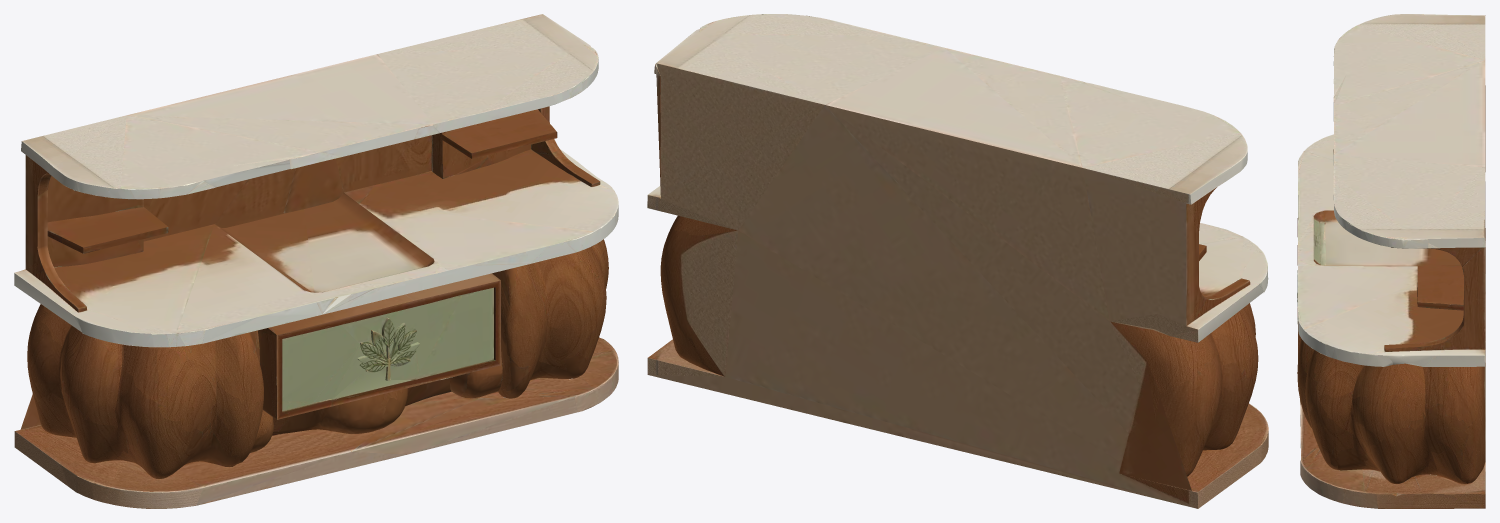
Rendered from hall-counter.glb.
The picture shows the model from 3 angles, left to right: view 1: azimuth 30°, elevation 25°; view 2: azimuth 150°, elevation 25°; view 3: azimuth 270°, elevation 25°; orthographic projection. The views are drawn at different scales.
Bounding box in the file's own units: 1.9 × 1.03 × 0.659.
1 material, 1 textured.
